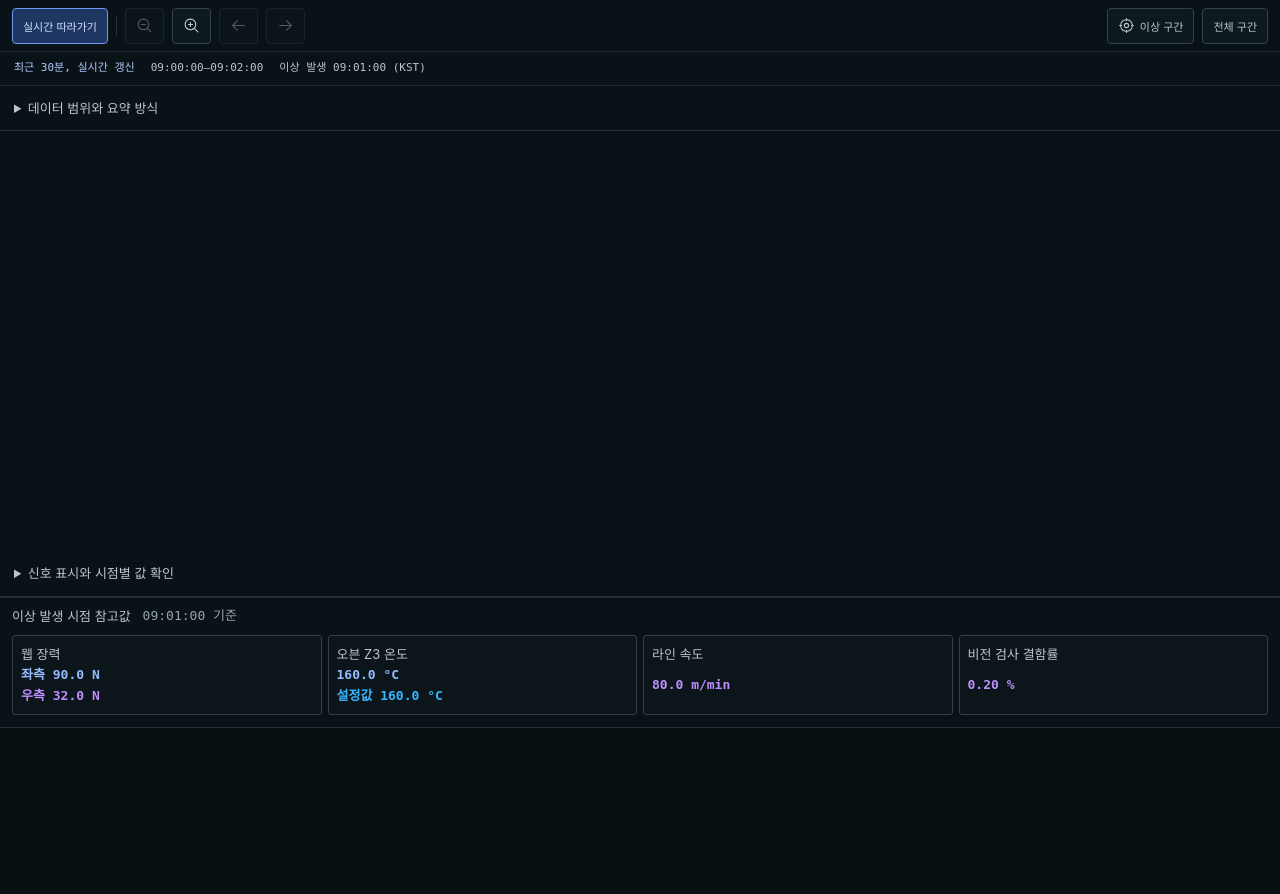
Test: exposes every series and point values through native keyboard controls
Click the heading "신호 표시와 시점별 값 확인" at [101, 573], box [28,565,174,581]
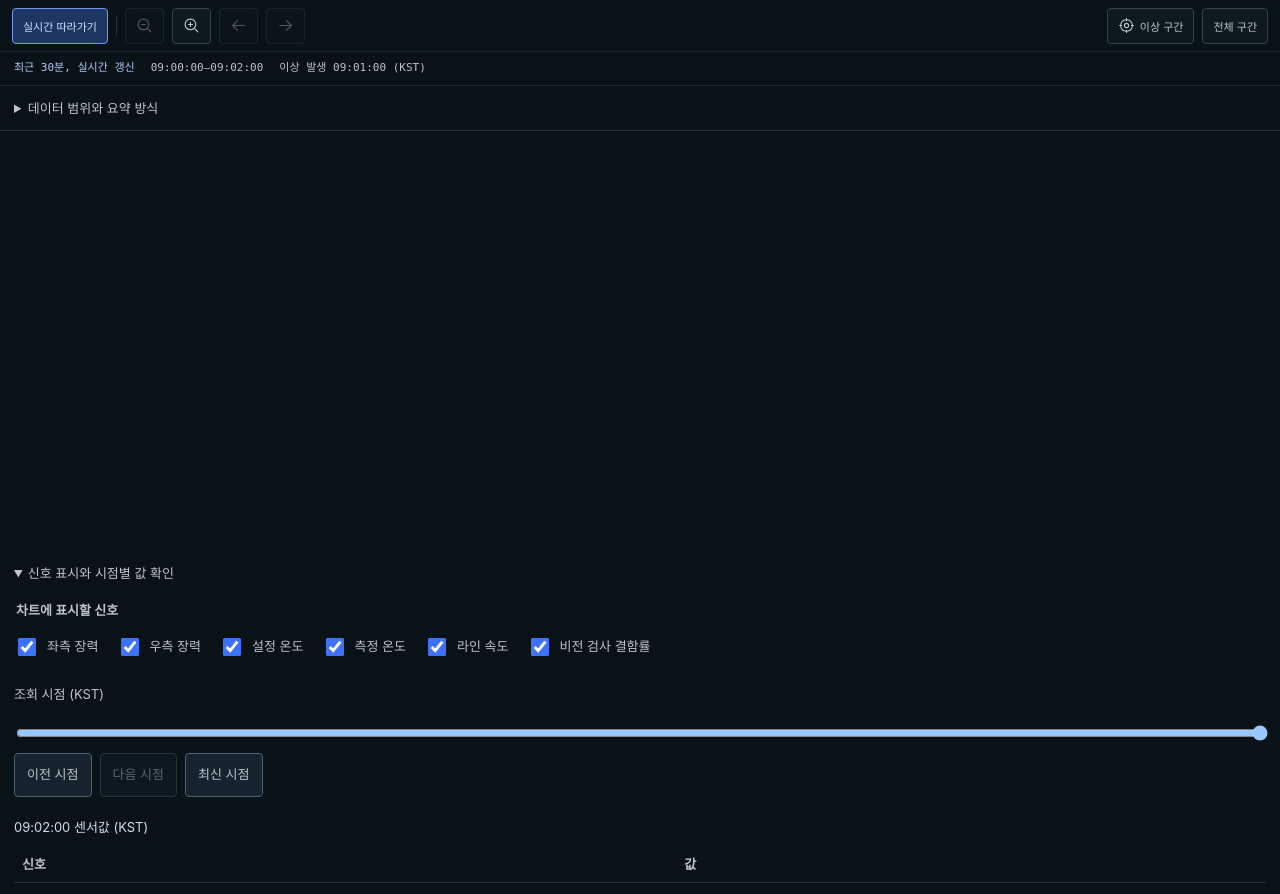
Click the checkbox labelled "라인 속도" at [437, 647], box [428,638,446,656]
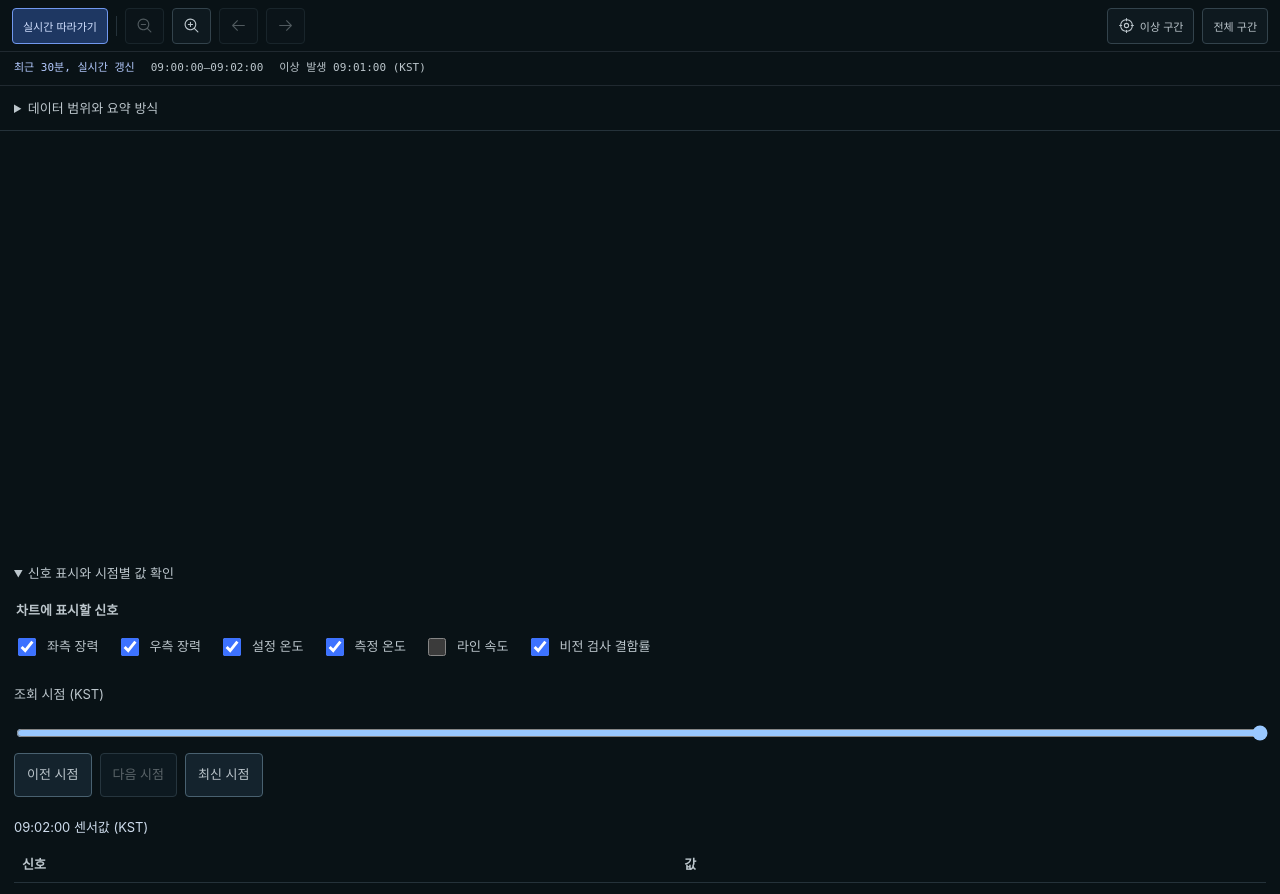
Set the slider labelled "조회 시점 (KST)" to "1" at [642, 733], box [16,715,1268,751]
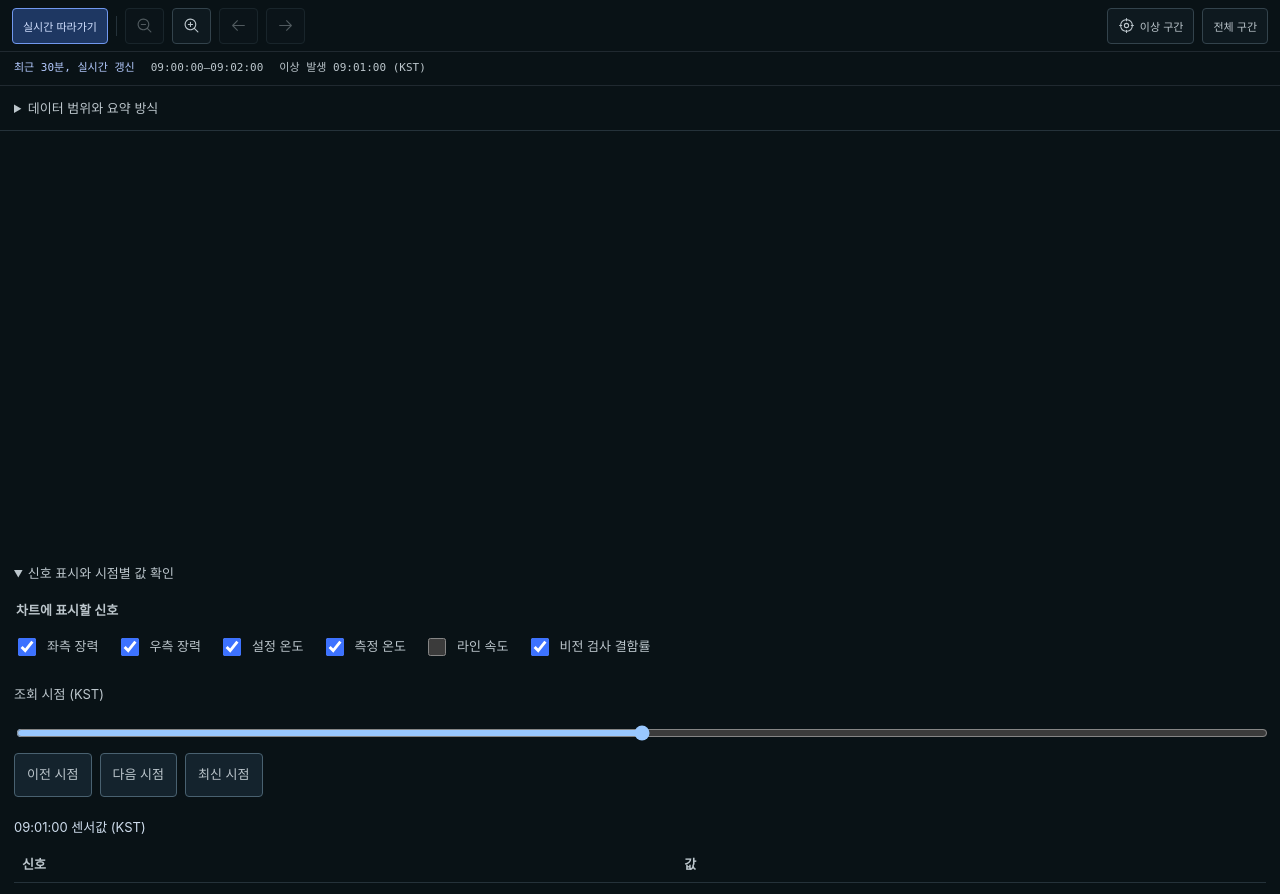
Click the button "이전 시점" at [53, 775], box [14,753,92,797]
(page scrolled)
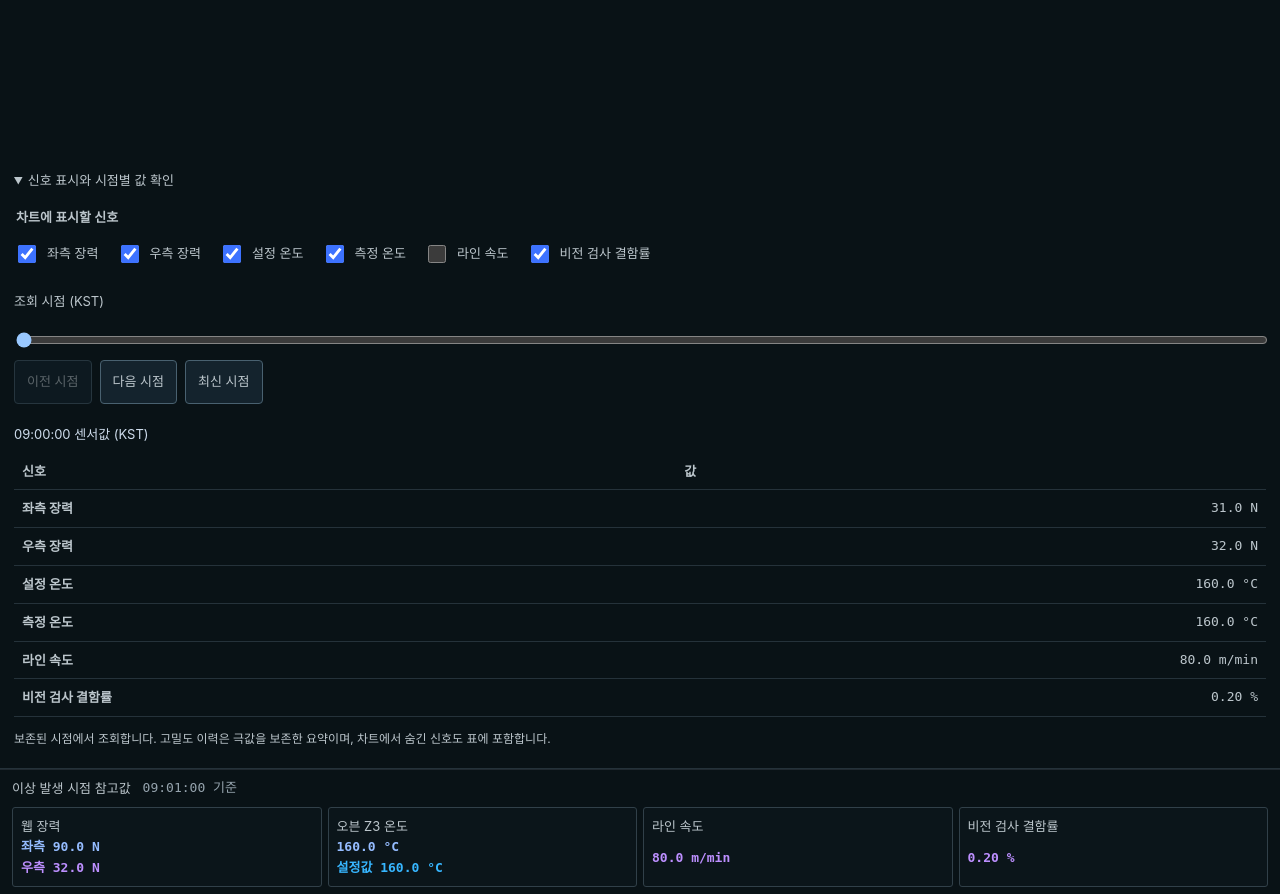
Check: the table shows "31.0 N", box [14,416,1266,717]
